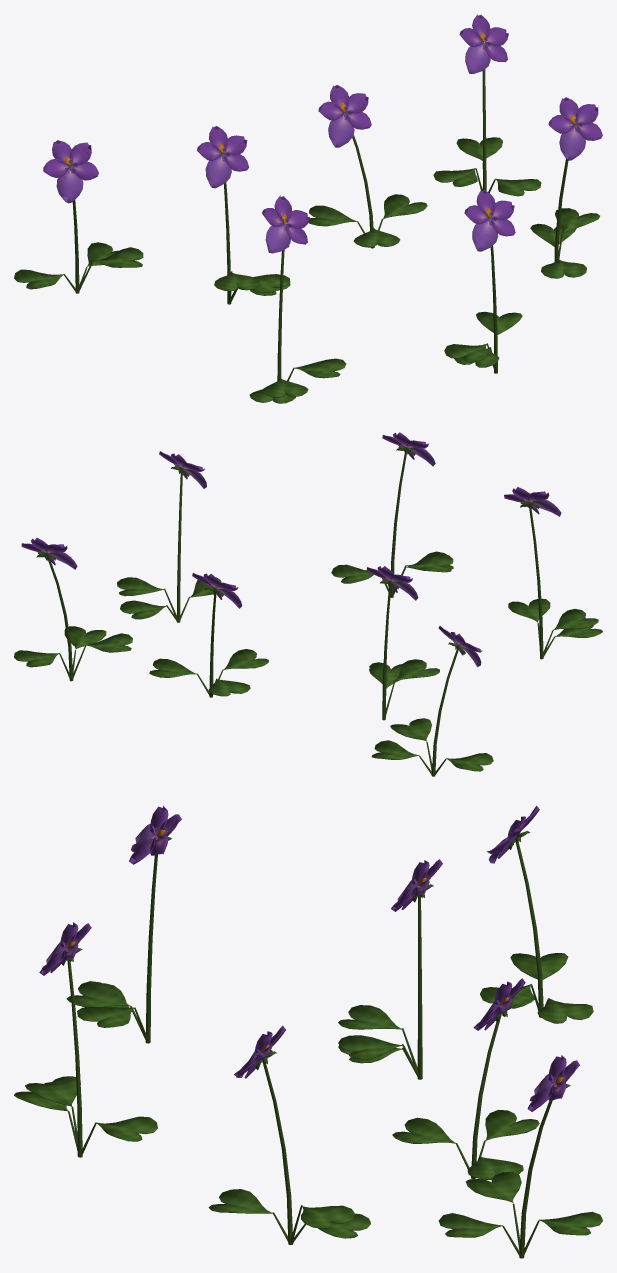
File: flower_violet.fbx
The picture shows the model from 3 angles, top to bottom: view 1: azimuth 30°, elevation 25°; view 2: azimuth 150°, elevation 25°; view 3: azimuth 270°, elevation 25°; orthographic projection. The views are drawn at different scales.
Parts seen in each view (by area): view 1: flower_violet; view 2: flower_violet; view 3: flower_violet.
Part boxes in pixels (bbox=[...]): flower_violet: bbox=[14, 14, 602, 403]; flower_violet: bbox=[14, 432, 602, 776]; flower_violet: bbox=[14, 805, 602, 1258].
Size of what is drawn, in the model's own units: 0.6721 by 0.2492 by 0.5612.
1 material, 1 textured.
